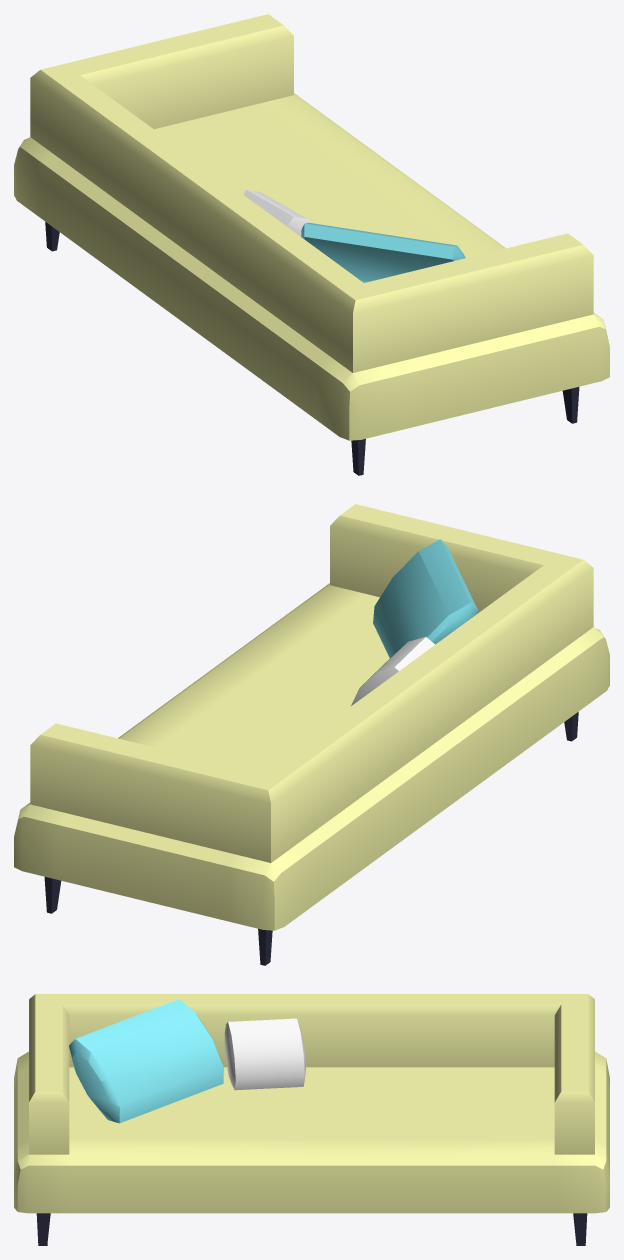
The model's file is SOFA.glb.
The picture shows the model from 3 angles, top to bottom: view 1: azimuth 30°, elevation 25°; view 2: azimuth 150°, elevation 25°; view 3: azimuth 270°, elevation 25°; orthographic projection. The views are drawn at different scales.
Parts seen in each view (by area): view 1: SOFA, PILLOWS; view 2: SOFA, PILLOWS; view 3: SOFA, PILLOWS.
Part boxes in pixels (left/top/right/bottom): SOFA: left=14, top=14, right=609, bottom=475; PILLOWS: left=243, top=190, right=465, bottom=282; SOFA: left=14, top=504, right=609, bottom=965; PILLOWS: left=351, top=539, right=478, bottom=705; SOFA: left=14, top=994, right=609, bottom=1245; PILLOWS: left=69, top=999, right=305, bottom=1123.
Size of the model in its own units: 1.98 by 1.33 by 4.36.
